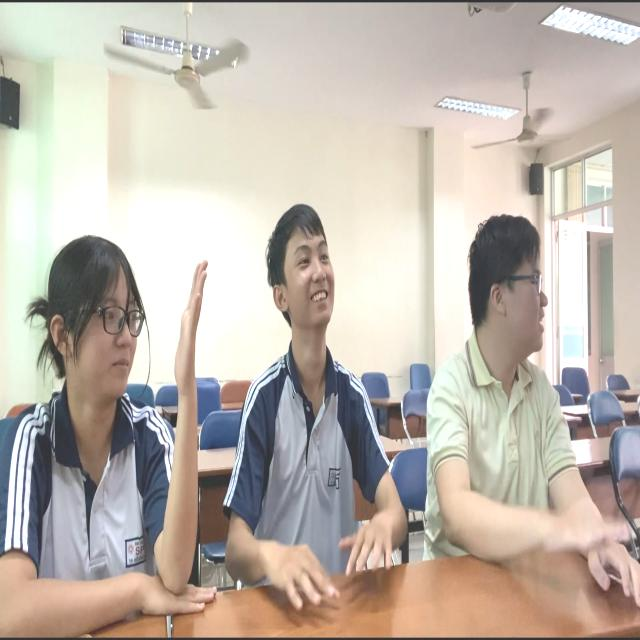raise_hand: (1, 229, 220, 640)
